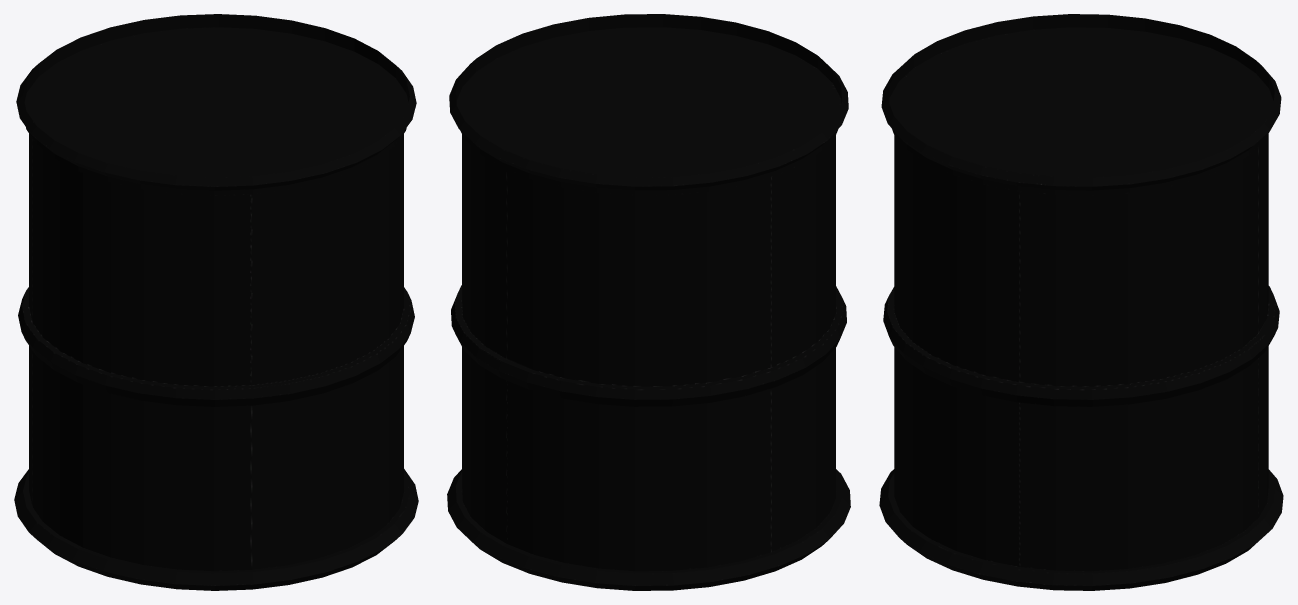
File: gas.fbx
3 renders of one model, left to right at view 1: azimuth 30°, elevation 25°; view 2: azimuth 150°, elevation 25°; view 3: azimuth 270°, elevation 25°, orthographic.
Visible parts, largest first — view 1: node_id3; view 2: node_id3; view 3: node_id3.
Part boxes in pixels (bbox=[...]): node_id3: bbox=[14, 14, 418, 590]; node_id3: bbox=[447, 14, 850, 590]; node_id3: bbox=[879, 14, 1283, 590].
Size of the model in its own units: 0.4534 by 0.512 by 0.4534.
Materials: 1 (1 with a texture image).
